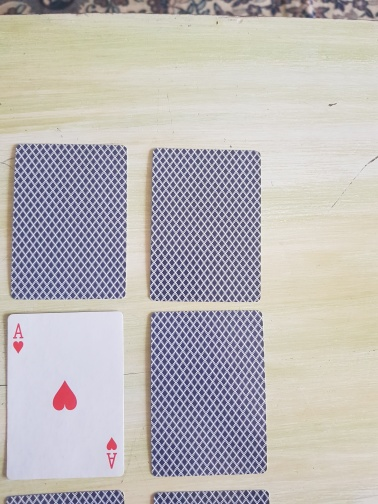ace: (5, 310, 128, 481)
